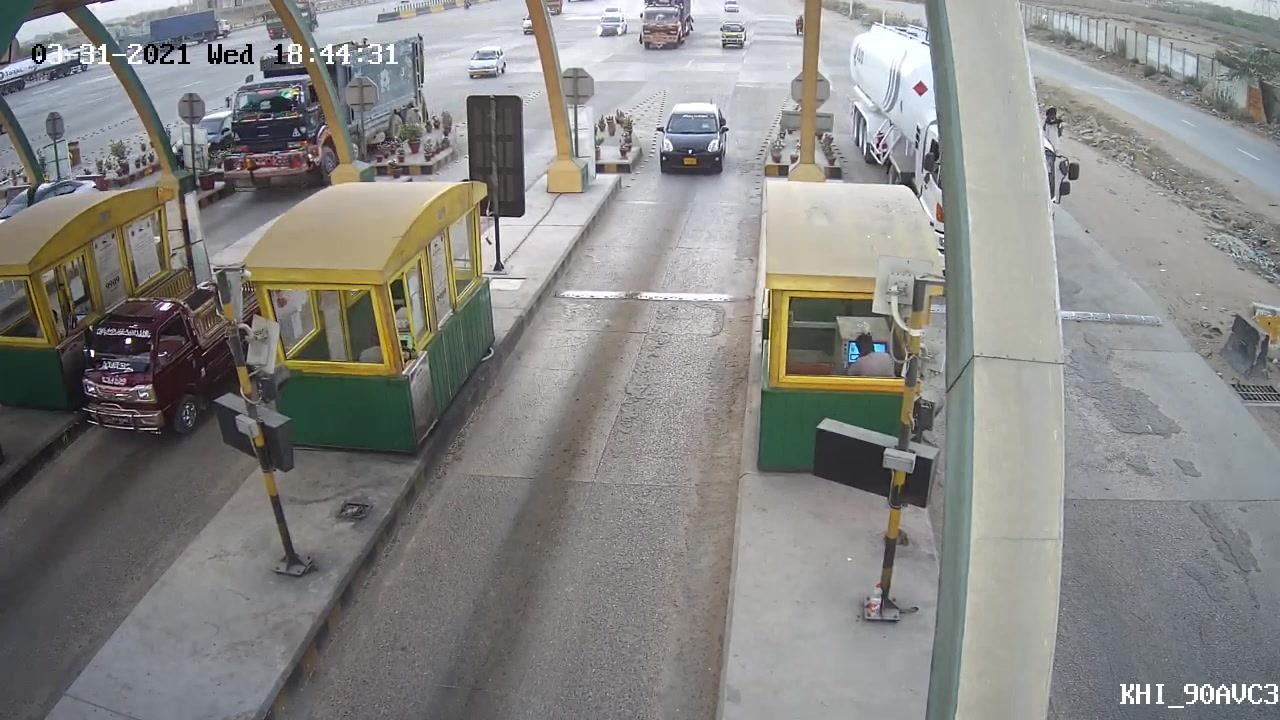F1: (650, 94, 738, 174)
